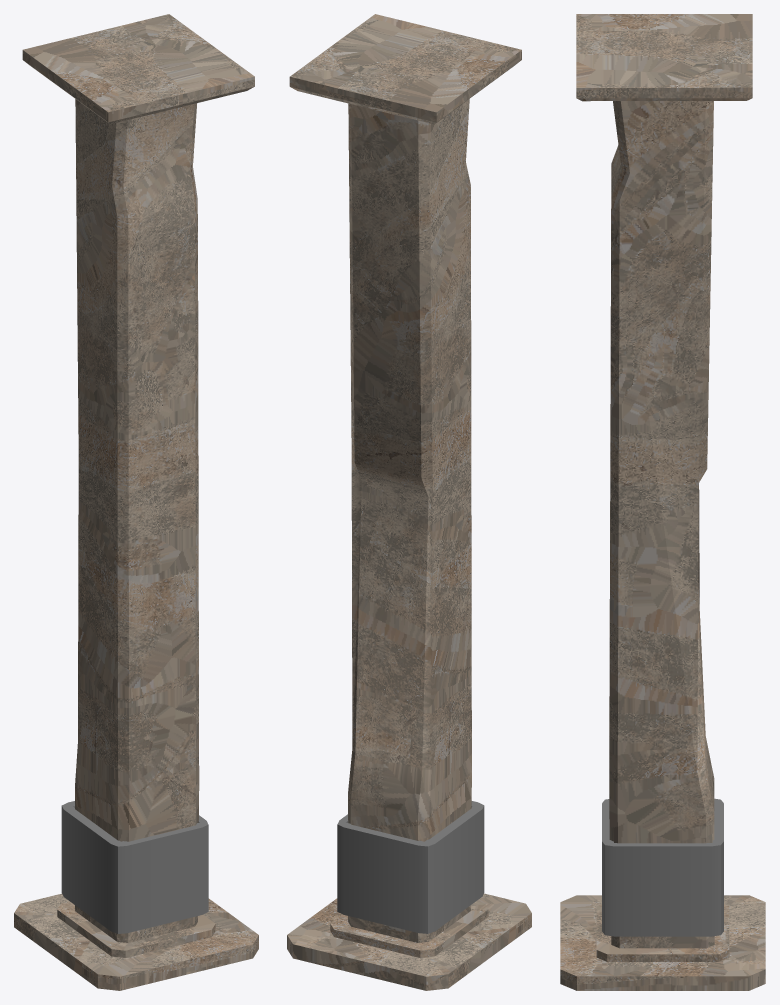
The model's file is SM_TableLeg.fbx.
3 views of the same model, side by side, from view 1: azimuth 30°, elevation 25°; view 2: azimuth 150°, elevation 25°; view 3: azimuth 270°, elevation 25° (orthographic). The views are drawn at different scales.
Parts seen in each view (by area): view 1: Object002; view 2: Object002; view 3: Object002.
Part boxes in pixels (box(x1,y1,x2,y2)): Object002: box(14, 14, 258, 990); Object002: box(287, 14, 531, 990); Object002: box(560, 14, 765, 990).
Size of the model in its own units: 0.139 by 0.7197 by 0.1489.
